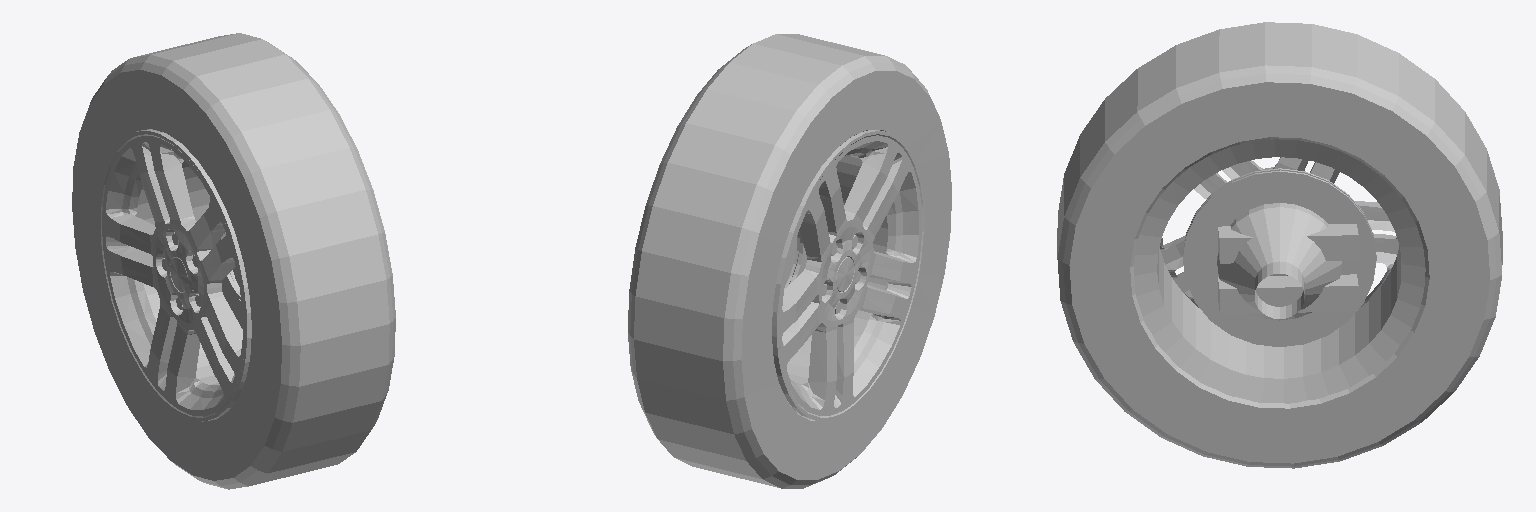
File: FrontRight_Truck.obj
The picture shows the model from 3 angles: view 1: azimuth 30°, elevation 25°; view 2: azimuth 150°, elevation 25°; view 3: azimuth 270°, elevation 25°; orthographic projection.
Parts seen in each view (by area): view 1: VorneRechts_uploads_files_862940_silverado.005; view 2: VorneRechts_uploads_files_862940_silverado.005; view 3: VorneRechts_uploads_files_862940_silverado.005.
Part boxes in pixels (x1,y1,x2,y2): VorneRechts_uploads_files_862940_silverado.005: (72,33,395,489); VorneRechts_uploads_files_862940_silverado.005: (628,34,951,488); VorneRechts_uploads_files_862940_silverado.005: (1057,22,1502,468).
Size of the model in its own units: 0.563 by 1.3 by 1.31.